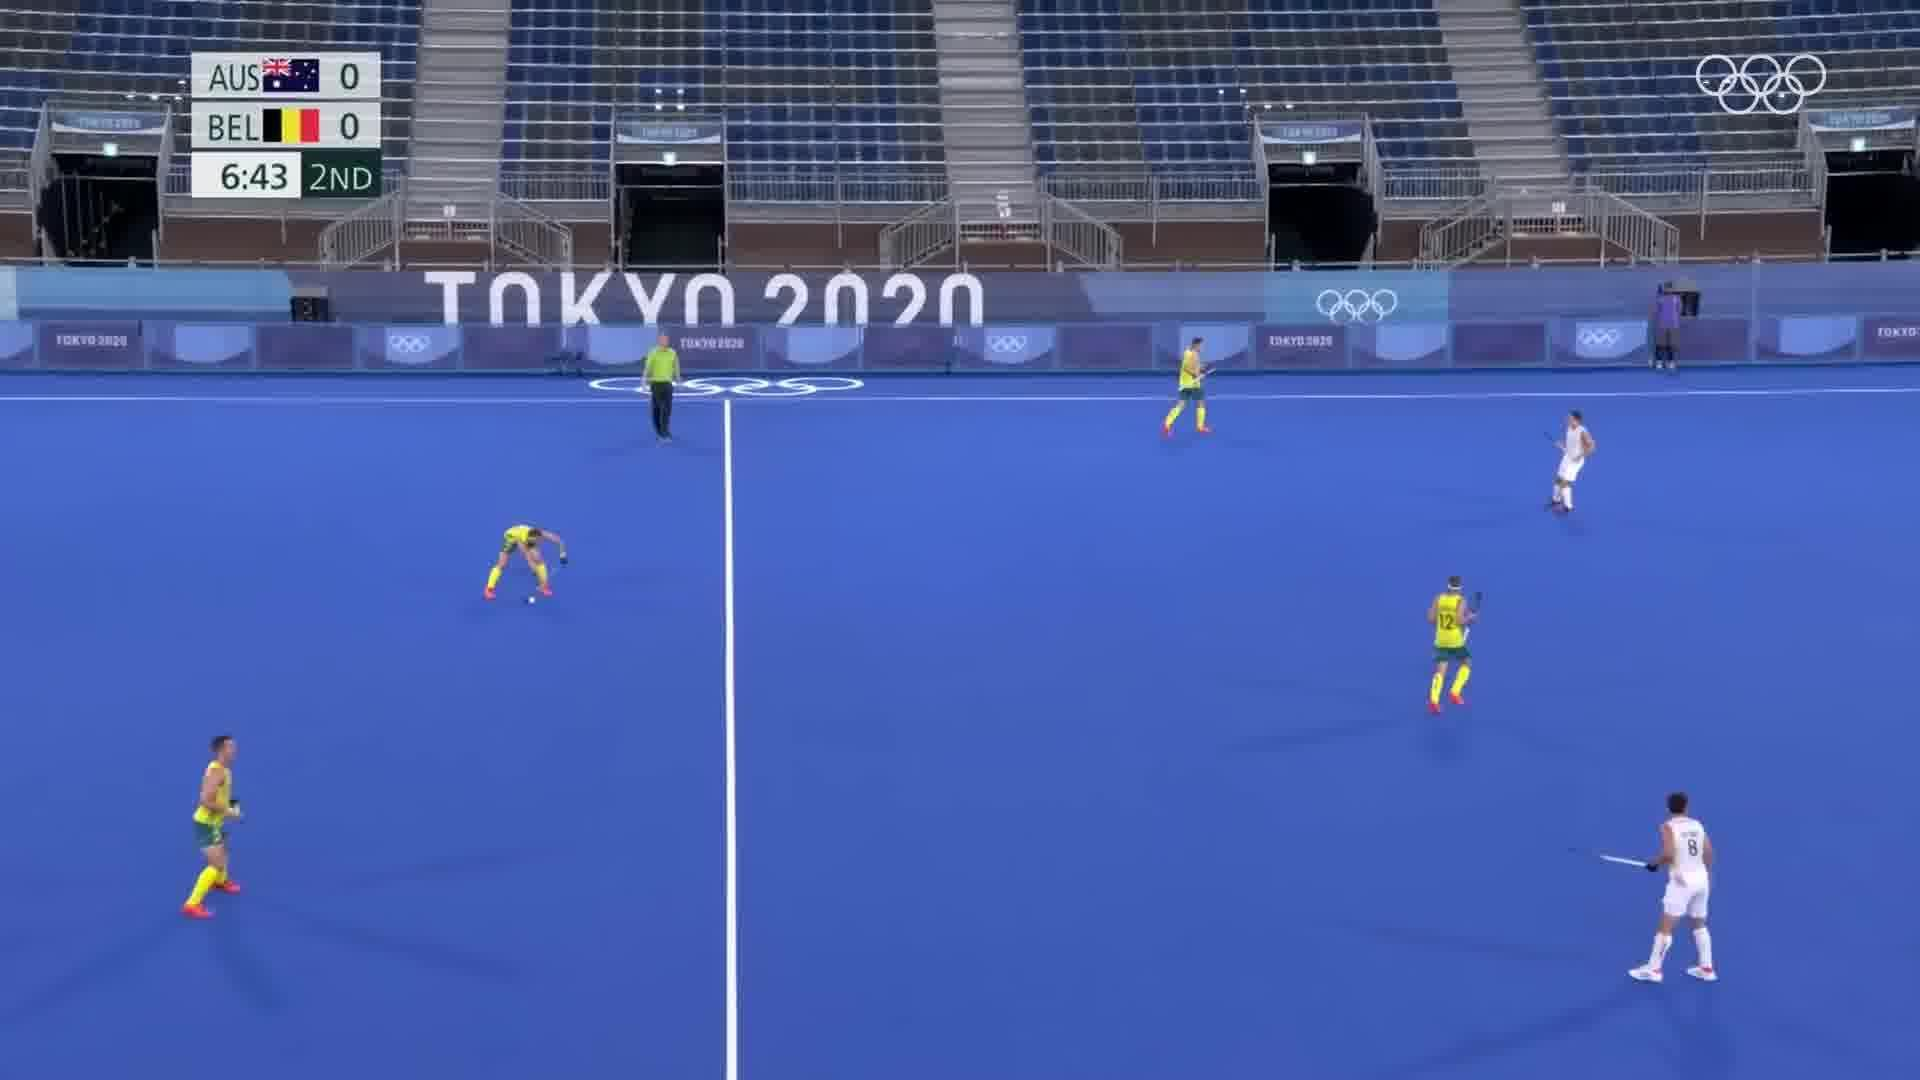ball: (518, 593, 546, 611)
